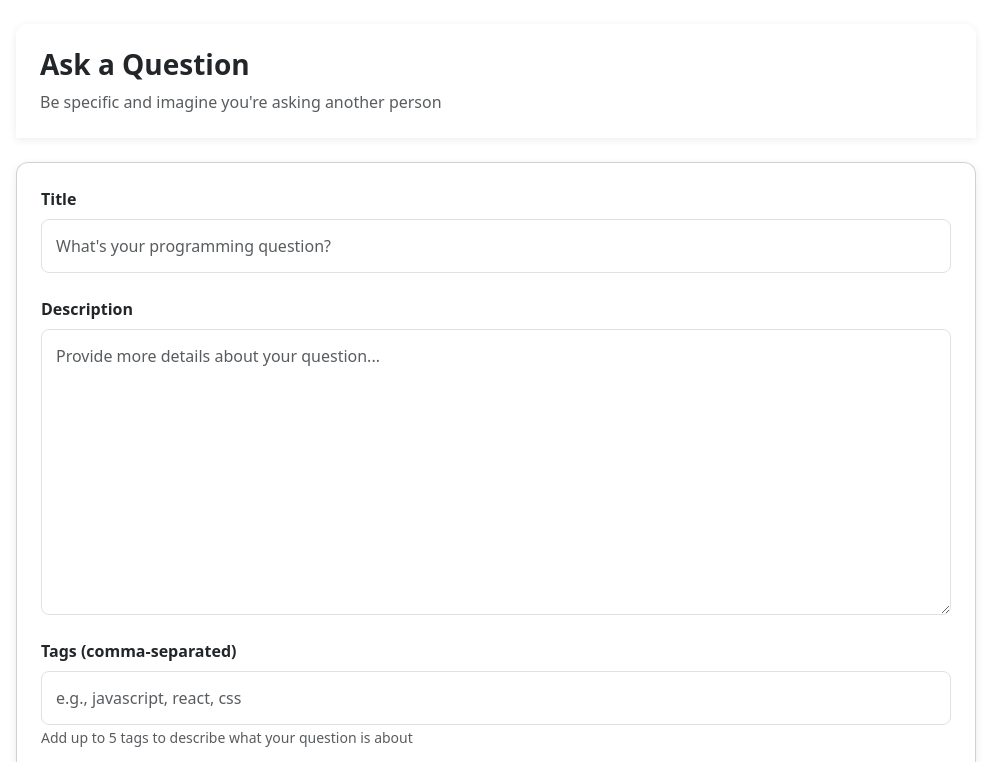
Test: Question Quality Improver › rejecting dismisses the suggestion without changing the field
Type "react not working" into the field labelled "Title" at [496, 246], box [41, 219, 951, 273]
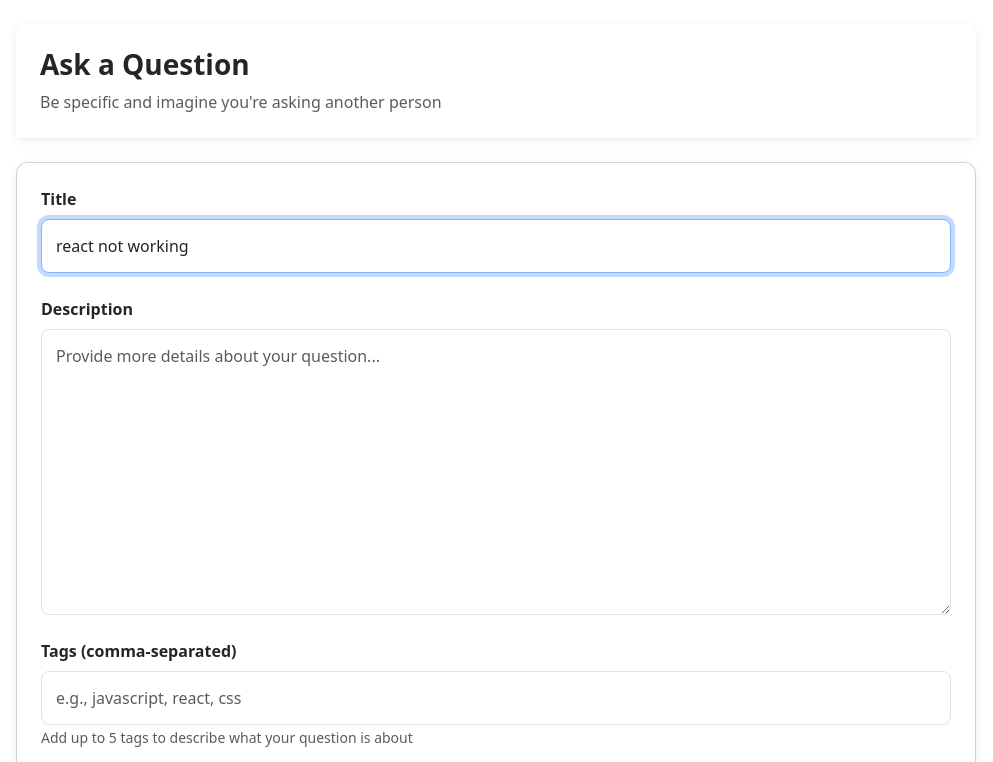
Type "useEffect runs twice" into the text box labelled "Description" at [496, 472], box [41, 329, 951, 614]
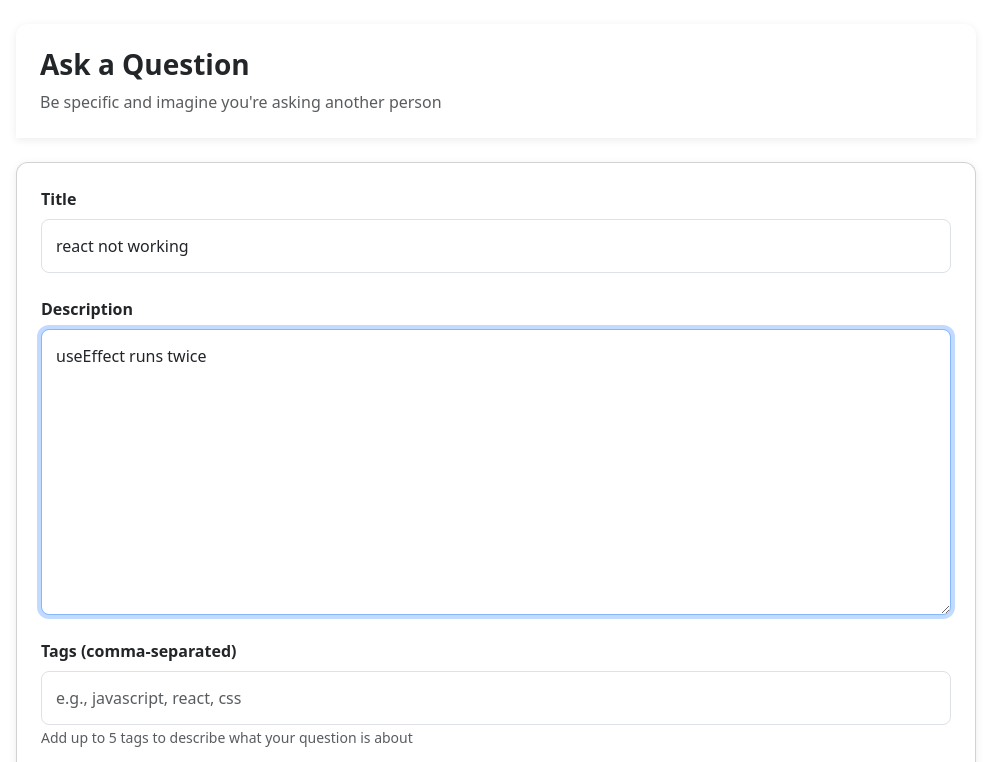
Type "react" into the field labelled "Tags (comma-separated)" at [496, 698], box [41, 670, 951, 724]
(page scrolled)
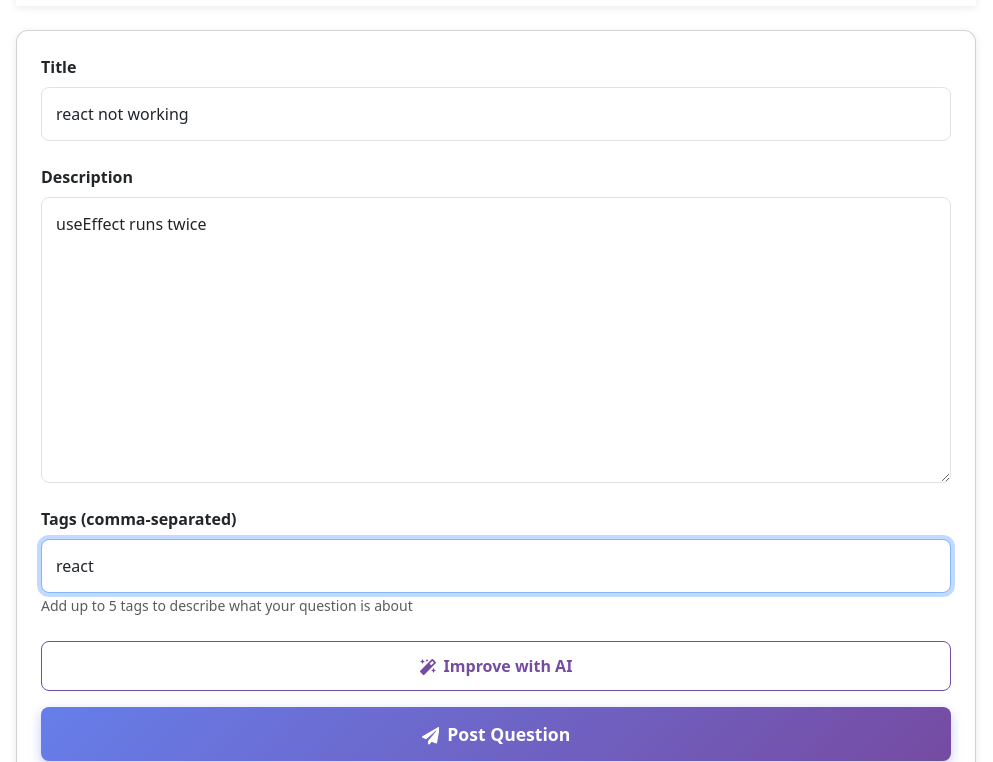
Click the button "Improve with AI" at [496, 666], box [41, 640, 951, 690]
(page scrolled)
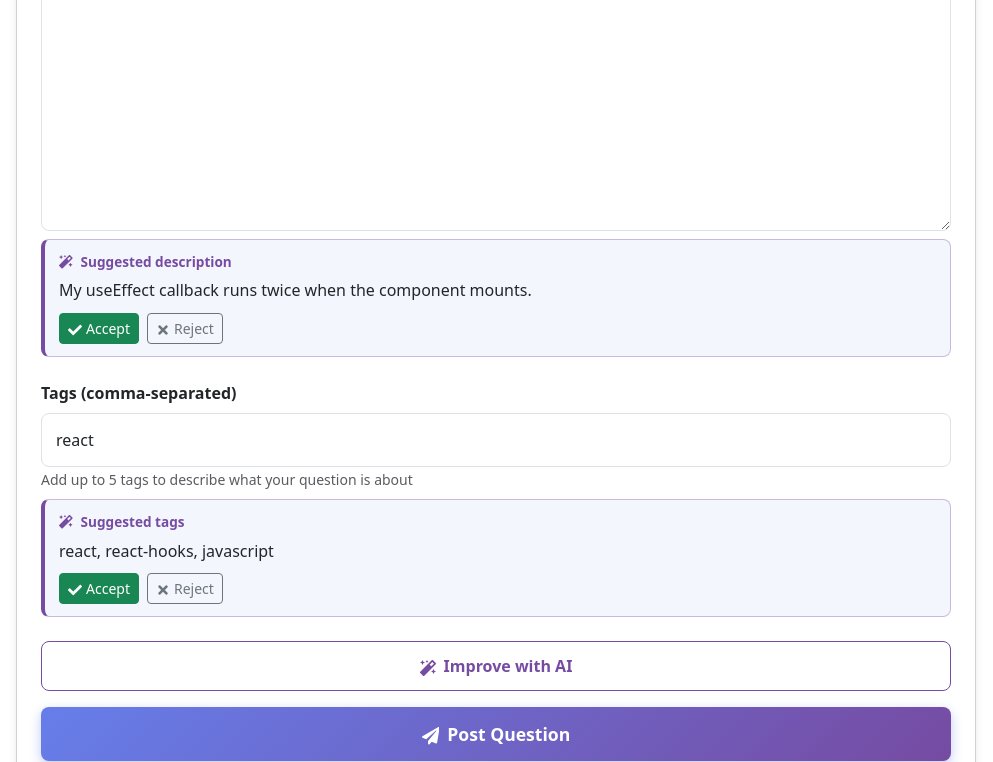
Result: the element with test id "ai-suggestion-tags" is shown at [41, 499, 951, 617]
Click the button with aria-label "reject suggested tags" at [185, 588], box [147, 573, 223, 604]
(page scrolled)
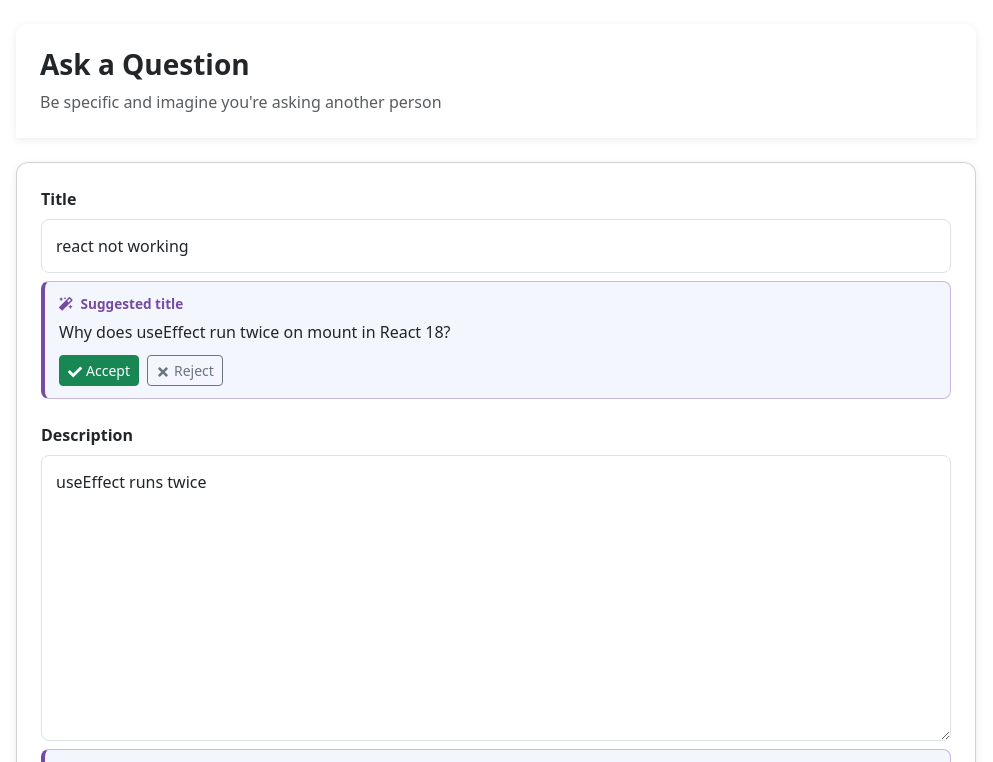
Result: the element with test id "ai-suggestion-title" is shown at [41, 281, 951, 399]
Result: the element with test id "ai-suggestion-tags" is gone
